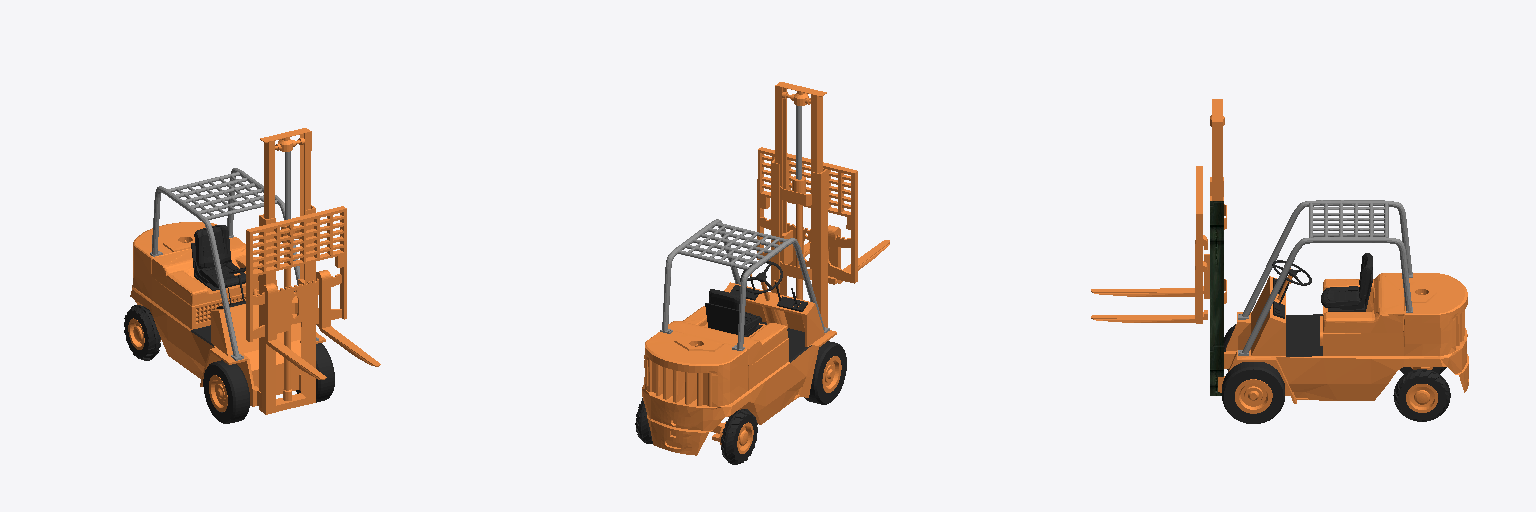
The picture shows the model from 3 angles: view 1: azimuth 30°, elevation 25°; view 2: azimuth 150°, elevation 25°; view 3: azimuth 270°, elevation 25°; orthographic projection.
Parts seen in each view (by area): view 1: (null); view 2: (null); view 3: (null).
Part boxes in pixels (x1,y1,x2,y2): (null): (124, 128, 380, 423); (null): (635, 82, 889, 464); (null): (1091, 99, 1468, 423).
Size of the model in its own units: 91.84 by 249 by 296.
13 materials, 2 textured.